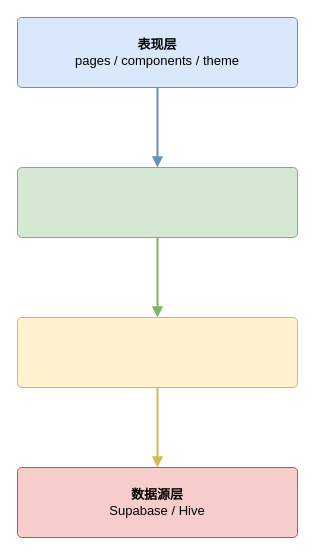
Image size: 315x555. Some labels were removed from this diagram. Here are the shapes that lost their labels. From the top down, the centre of each, then its label:
(x=157, y=202): 状态管理层 Provider / StateNotifier
(x=157, y=352): 数据访问层 Service / Repository
